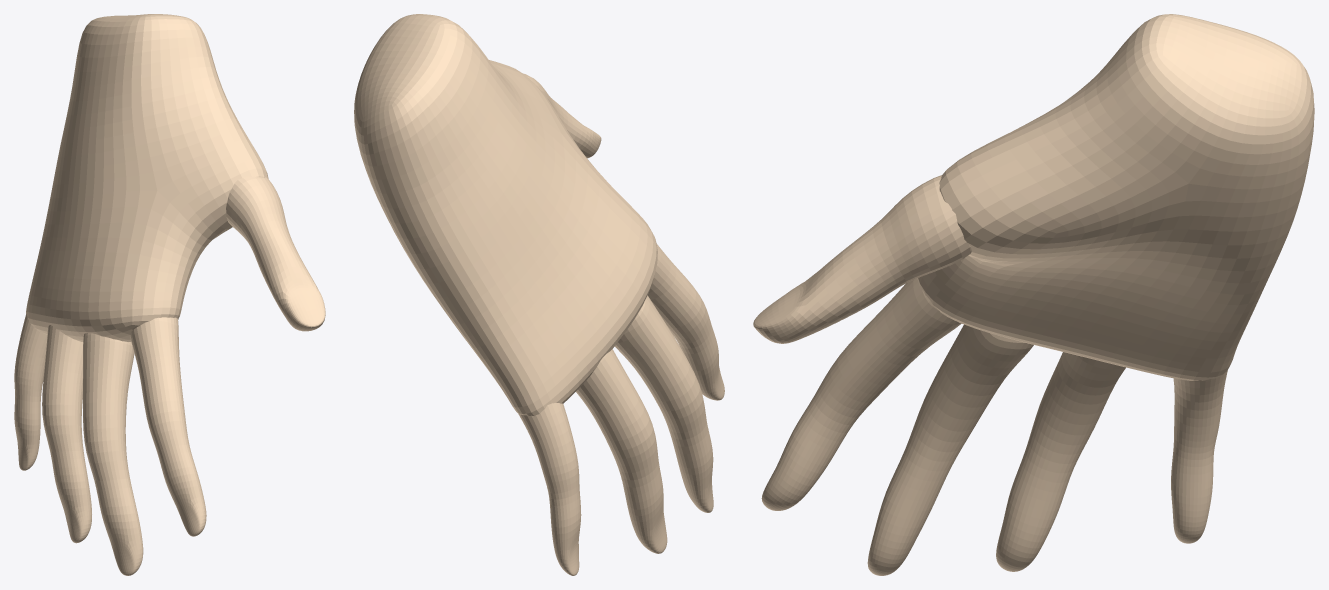
Rendered from RightHand.fbx.
3 views of the same model, side by side, from view 1: azimuth 30°, elevation 25°; view 2: azimuth 150°, elevation 25°; view 3: azimuth 270°, elevation 25° (orthographic). The views are drawn at different scales.
Visible parts, largest first — view 1: RightHand; view 2: RightHand; view 3: RightHand.
Part boxes in pixels (bbox=[...]): RightHand: bbox=[14, 14, 325, 575]; RightHand: bbox=[354, 14, 724, 575]; RightHand: bbox=[753, 14, 1314, 575].
Size of the model in its own units: 0.0818 by 0.1816 by 0.1436.
